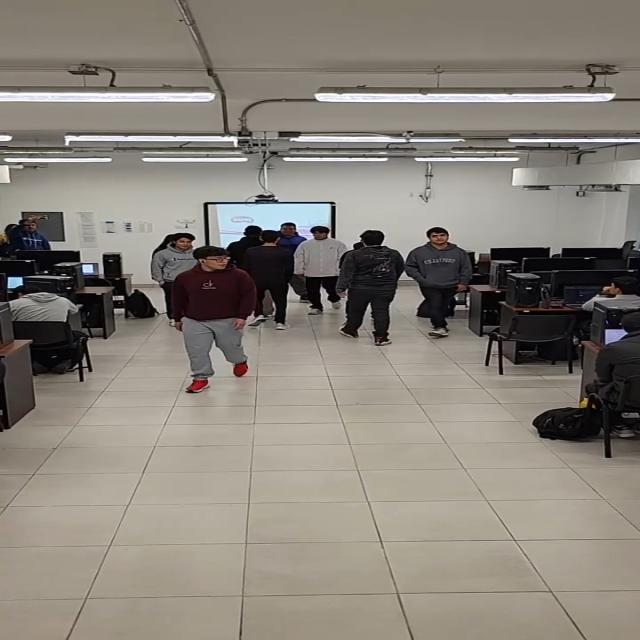Persona: (176, 250, 260, 386), (409, 224, 471, 336), (350, 230, 405, 348), (254, 231, 306, 336), (302, 225, 351, 318), (153, 230, 200, 273), (282, 225, 305, 244)
